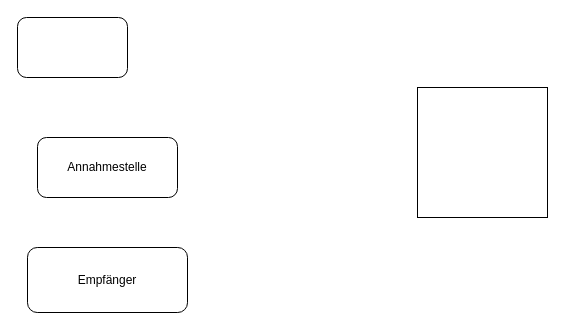
Some shapes in this 565 by 330 pixel diagram are drawn without their labels. The shapes that lost their labels are listed below. From the top down, each one's centre as x and y in pixels, then its label:
[72,47]: Paket
[482,152]: Blockchain
